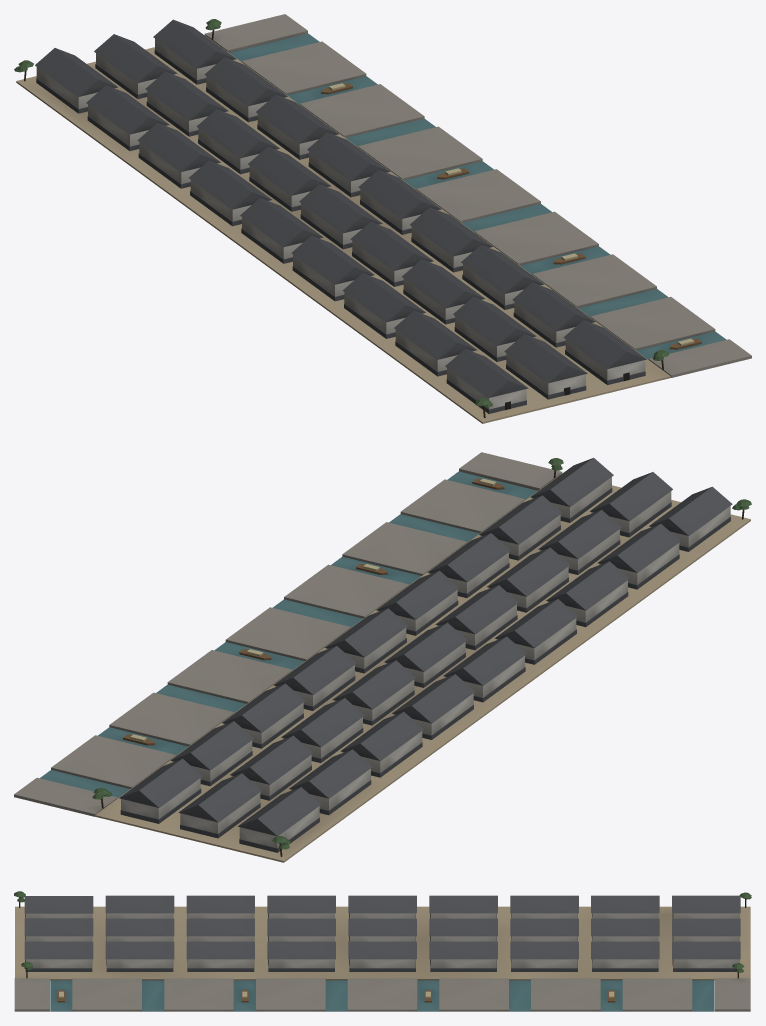
The model's file is asakusa-okura.glb.
The picture shows the model from 3 angles, top to bottom: view 1: azimuth 30°, elevation 25°; view 2: azimuth 150°, elevation 25°; view 3: azimuth 270°, elevation 25°; orthographic projection. The views are drawn at different scales.
Visible parts, largest first — view 1: p1_storehouses, p0_ground, p2_boats; view 2: p1_storehouses, p0_ground, p2_boats; view 3: p1_storehouses, p0_ground, p2_boats.
Boxes of the visible parts, x1=… form: p1_storehouses: x1=35, y1=19, x2=646, y2=413; p0_ground: x1=16, y1=14, x2=751, y2=423; p2_boats: x1=14, y1=19, x2=701, y2=417; p1_storehouses: x1=119, y1=457, x2=732, y2=852; p0_ground: x1=14, y1=452, x2=750, y2=862; p2_boats: x1=92, y1=458, x2=751, y2=856; p1_storehouses: x1=24, y1=895, x2=740, y2=971; p0_ground: x1=14, y1=906, x2=750, y2=1011; p2_boats: x1=14, y1=891, x2=751, y2=1002.
Bounding box in the file's own units: 101 × 11.31 × 301.
